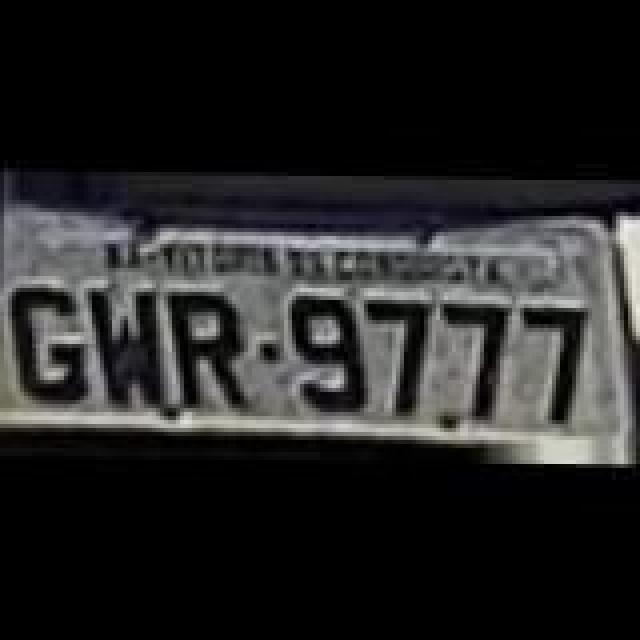7: (360, 296, 440, 424), (438, 296, 514, 424), (518, 300, 594, 428)
9: (282, 290, 374, 414)
G: (0, 282, 96, 406)
R: (164, 292, 252, 412)
W: (84, 280, 172, 408)
